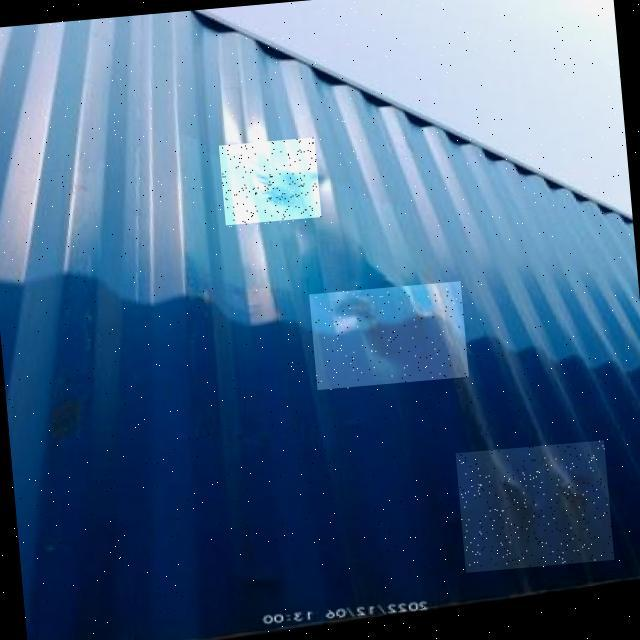Dent: (455, 440, 614, 572), (306, 281, 468, 392), (218, 138, 321, 228)
